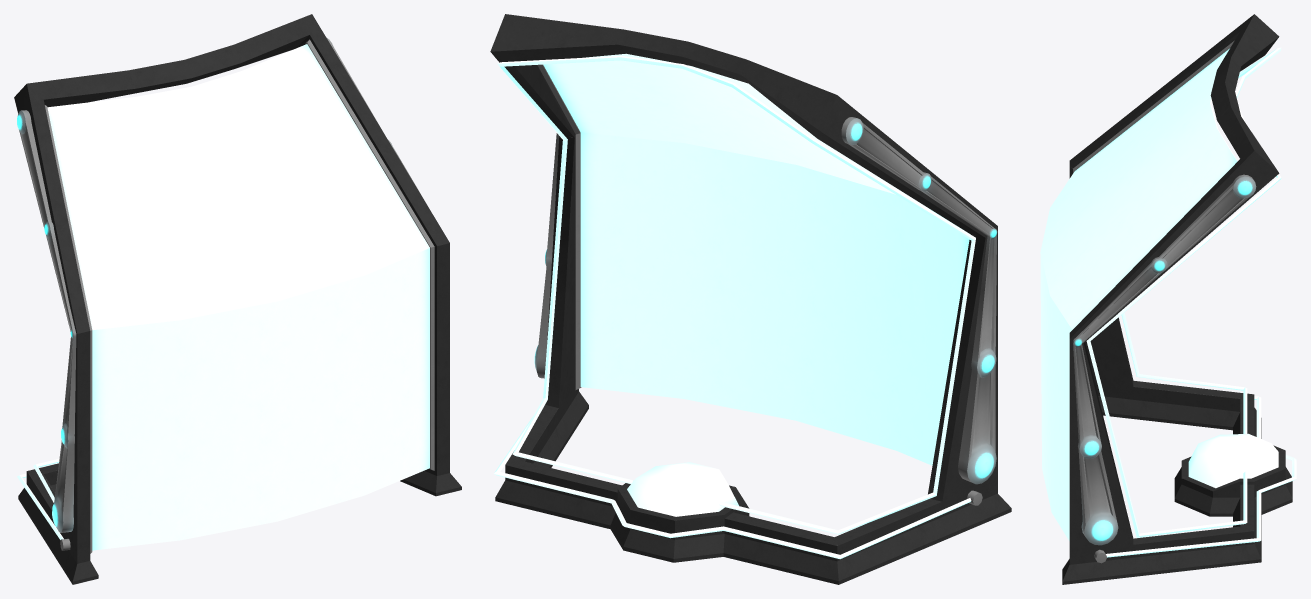
Rendered from env_Kiosk_000.FBX.
3 renders of one model, left to right at view 1: azimuth 30°, elevation 25°; view 2: azimuth 150°, elevation 25°; view 3: azimuth 270°, elevation 25°, orthographic. The views are drawn at different scales.
Parts seen in each view (by area): view 1: bb_env_kiosk_00; view 2: bb_env_kiosk_00; view 3: bb_env_kiosk_00.
Part boxes in pixels (x1=…): bb_env_kiosk_00: x1=14, y1=14, x2=461, y2=584; bb_env_kiosk_00: x1=490, y1=14, x2=1011, y2=584; bb_env_kiosk_00: x1=1040, y1=14, x2=1296, y2=584.
Size of the model in its own units: 0.9525 by 0.9755 by 0.5528.
1 material, 1 textured.
